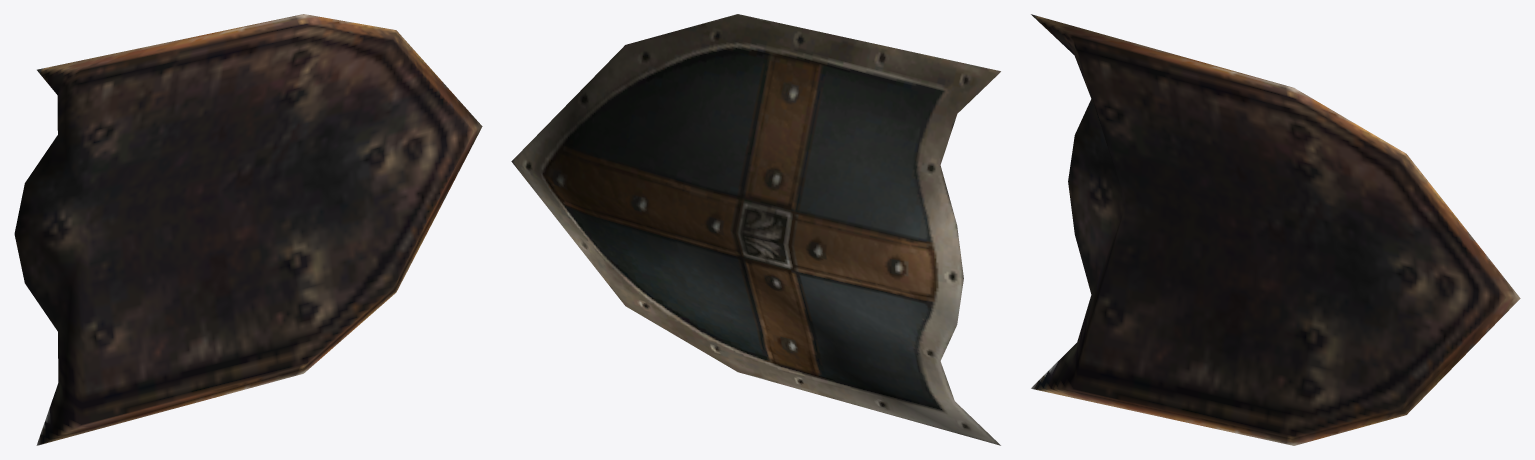
The picture shows the model from 3 angles, left to right: view 1: azimuth 30°, elevation 25°; view 2: azimuth 150°, elevation 25°; view 3: azimuth 330°, elevation 25°; orthographic projection.
Parts seen in each view (by area): view 1: model_416e79710fe6dbd7eb; view 2: model_416e79710fe6dbd7eb; view 3: model_416e79710fe6dbd7eb.
Part boxes in pixels (x1,y1,x2,y2): model_416e79710fe6dbd7eb: (14, 14, 482, 445); model_416e79710fe6dbd7eb: (511, 14, 1000, 445); model_416e79710fe6dbd7eb: (1031, 14, 1520, 445).
Bounding box in the file's own units: 0.6322 × 0.4844 × 0.1007.
2 materials, 2 textured.
